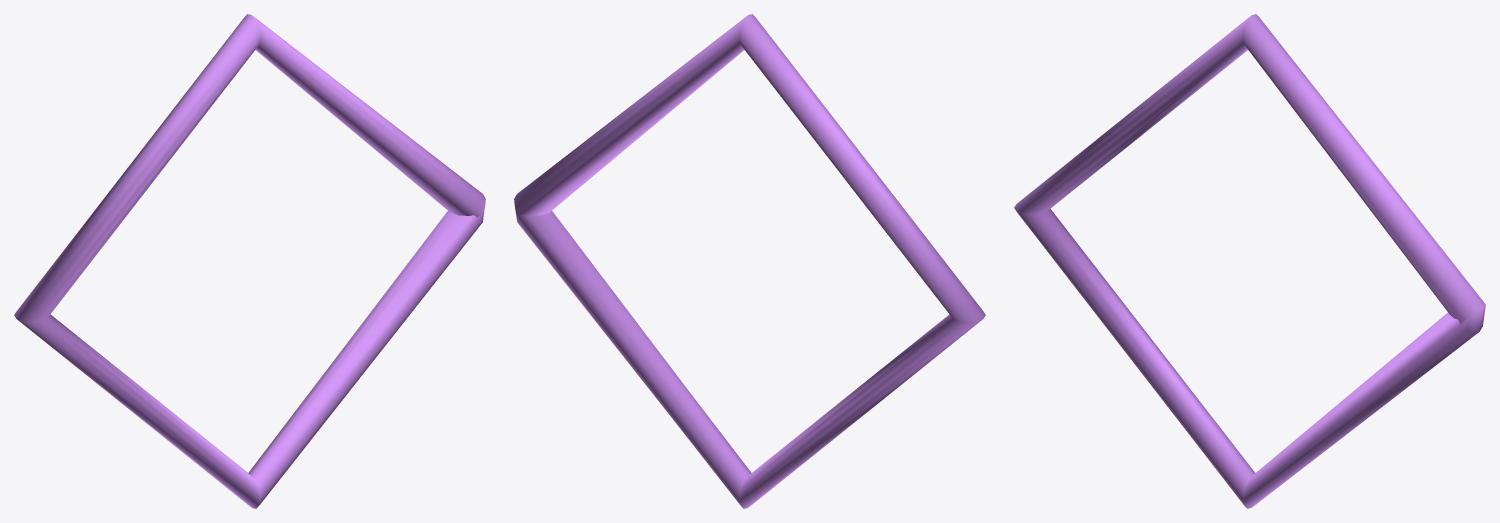
The model's file is diamond-MFudts-F.glb.
3 renders of one model, left to right at view 1: azimuth 30°, elevation 25°; view 2: azimuth 150°, elevation 25°; view 3: azimuth 330°, elevation 25°, orthographic.
Parts seen in each view (by area): view 1: R3D_diamond_Body_0; view 2: R3D_diamond_Body_0; view 3: R3D_diamond_Body_0.
Part boxes in pixels (x1,y1,x2,y2): R3D_diamond_Body_0: [14, 14, 485, 508]; R3D_diamond_Body_0: [514, 14, 985, 508]; R3D_diamond_Body_0: [1014, 14, 1485, 508].
Size of the model in its own units: 2.75 by 2.78 by 0.18.
